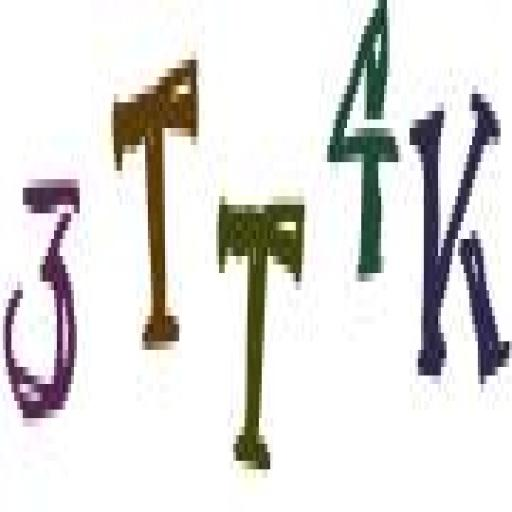3: (2, 162, 90, 428)
4: (318, 0, 404, 290)
K: (407, 89, 512, 394)
T: (109, 44, 202, 368), (214, 180, 306, 478)
